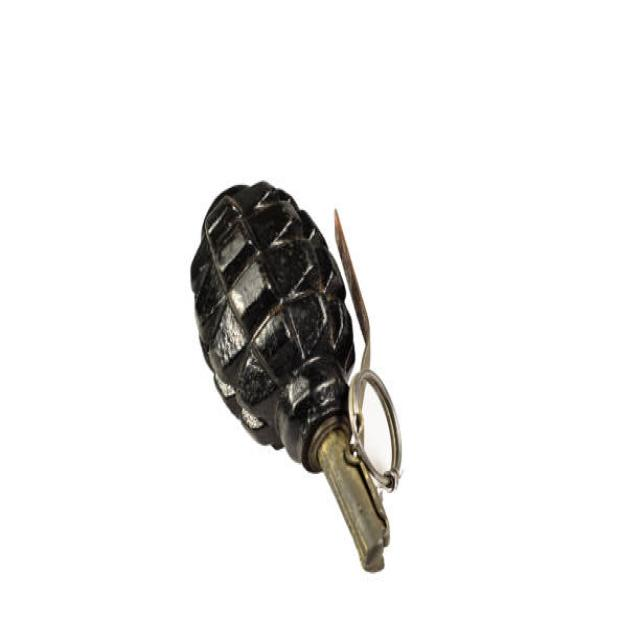grenade: (181, 176, 408, 580)
